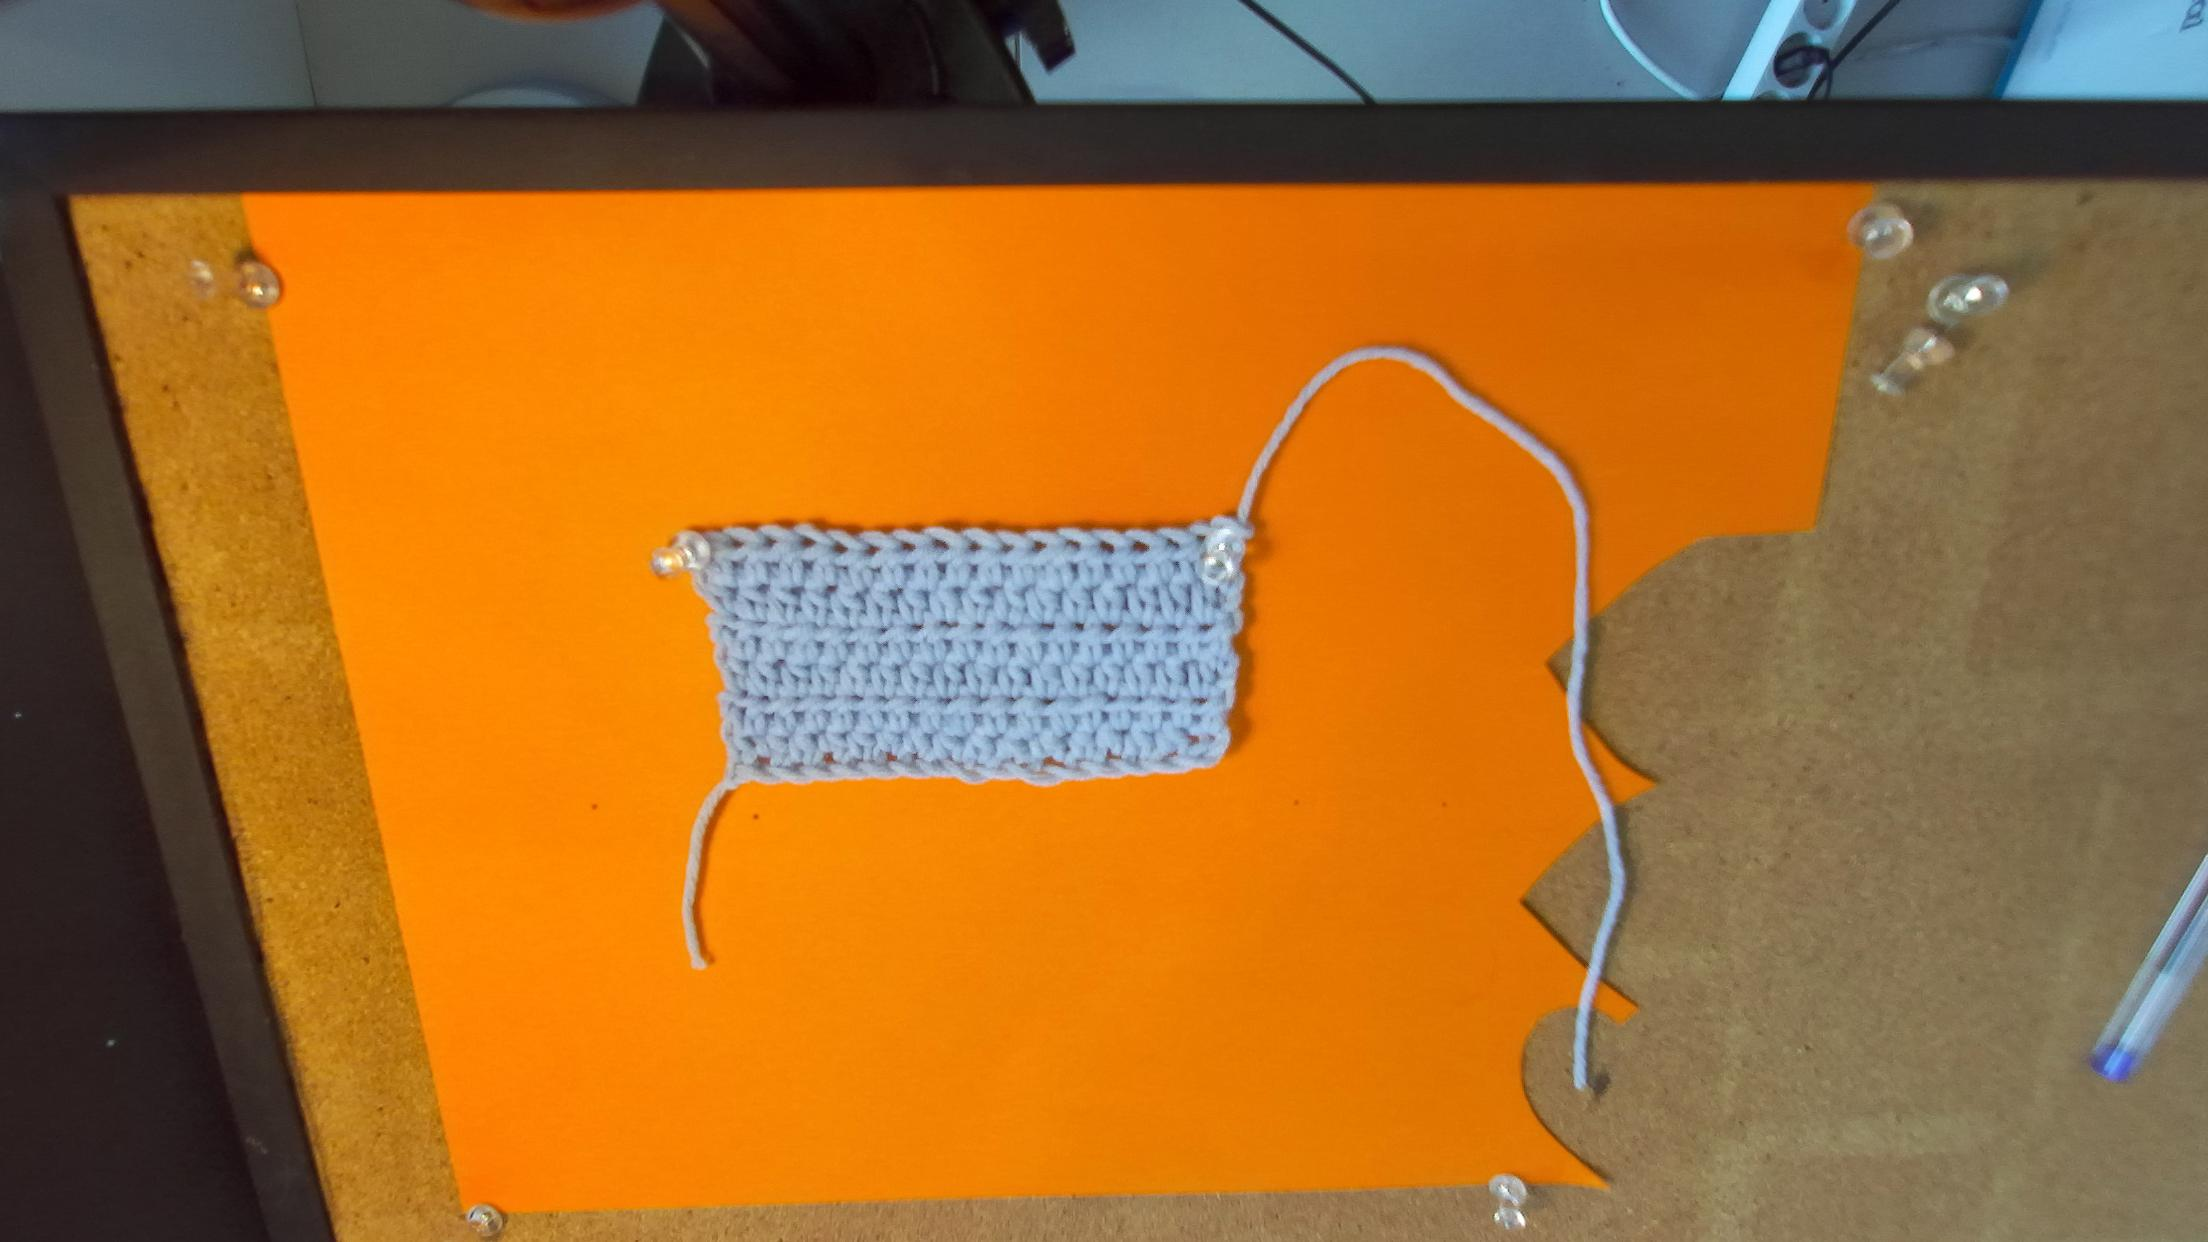hole: (859, 543, 883, 556), (726, 536, 748, 550), (1064, 538, 1082, 552), (832, 541, 849, 555), (799, 535, 817, 548), (761, 535, 780, 547), (931, 539, 949, 551), (1099, 541, 1114, 555), (1165, 537, 1180, 551), (1031, 540, 1047, 553), (1132, 540, 1150, 551), (900, 540, 915, 552), (968, 540, 983, 551), (999, 544, 1012, 553), (1196, 534, 1206, 544)
swatch: (643, 514, 1252, 794)
